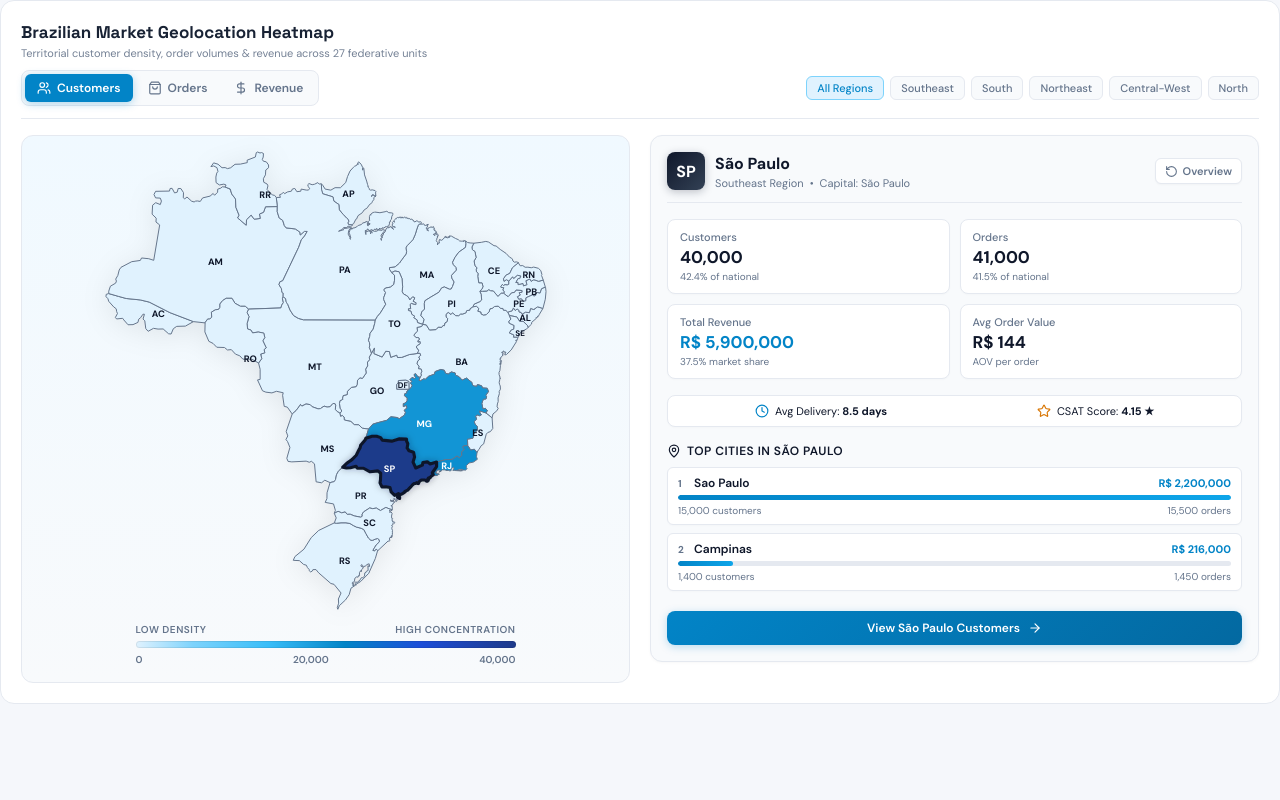
Test: DashboardGeoHeatmap Component › allows switching to national overview by clicking Overview button
Expected: the text "Overview" is shown, [1183,164,1232,178]
What coordinates should you click on to do the following:
click the button "Overview"
I would click on:
 (1198, 171)
Its box is [1155,158,1242,184].
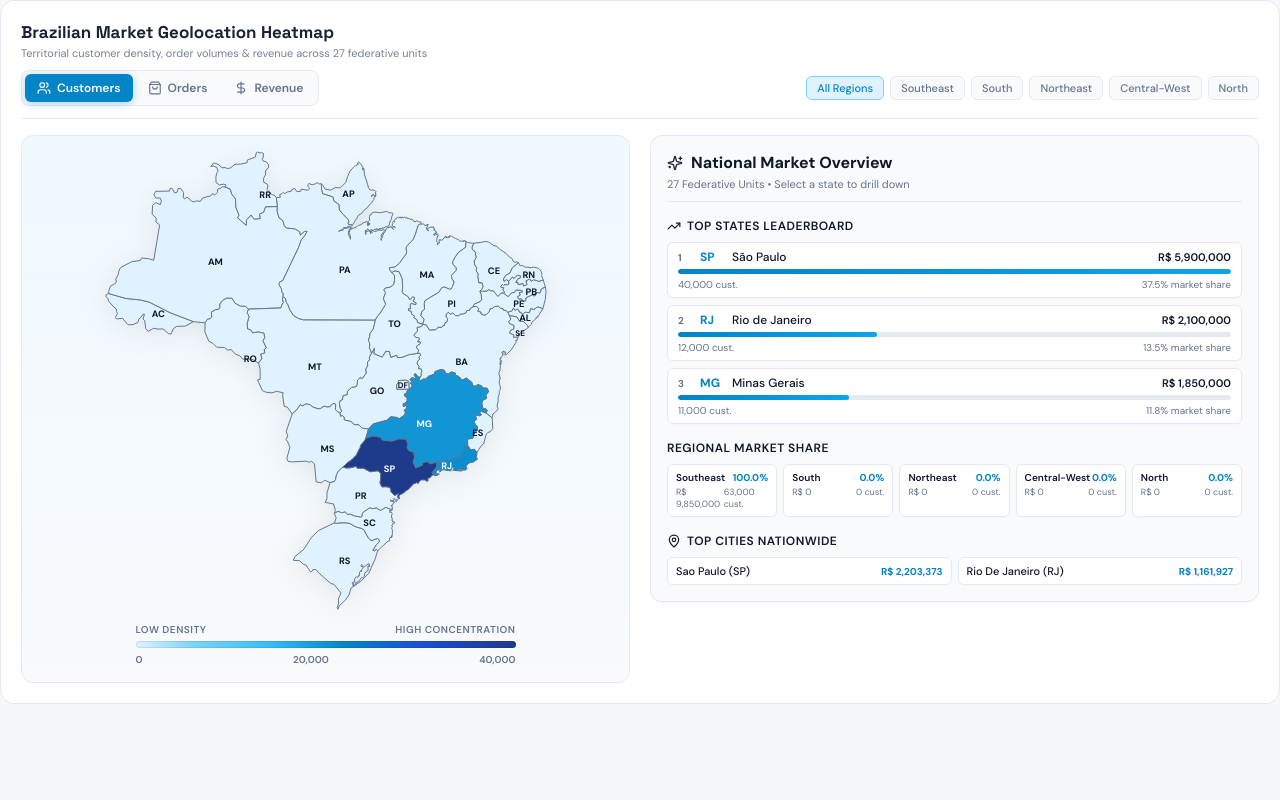
Result: the heading "National Market Overview" is shown at [691,152,892,173]
Result: the text "Top States Leaderboard" is shown at [687,218,854,234]
